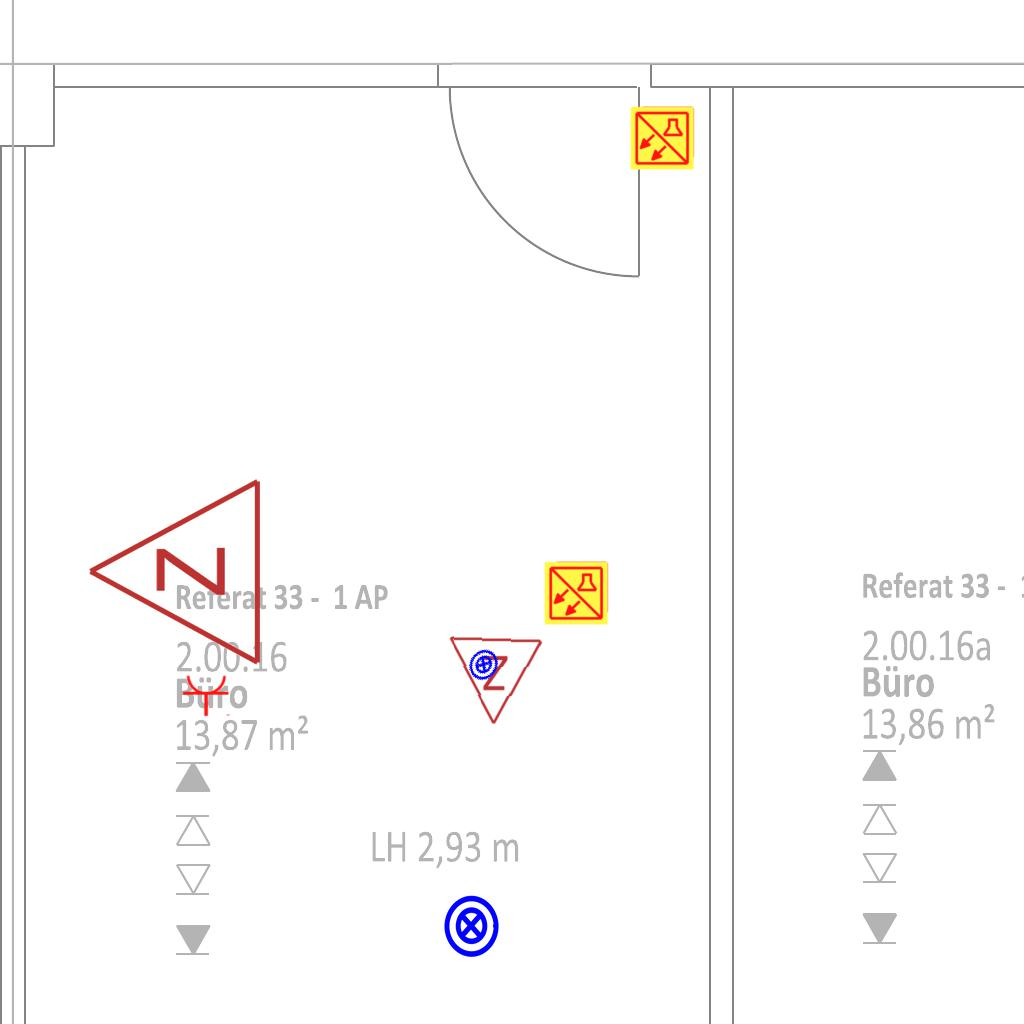OKW_Multisensormelder_(Kombination_optischer_Rauch-Kahlenmonoxid_Waerme-Melder): (543, 560, 609, 626), (629, 105, 695, 171)
Schukosteckdose_einfach: (182, 674, 232, 717)
Taster_beleuchtet: (438, 893, 504, 959), (460, 641, 507, 688)
Zimmersignalleuchte: (75, 476, 275, 672), (445, 629, 547, 733)
